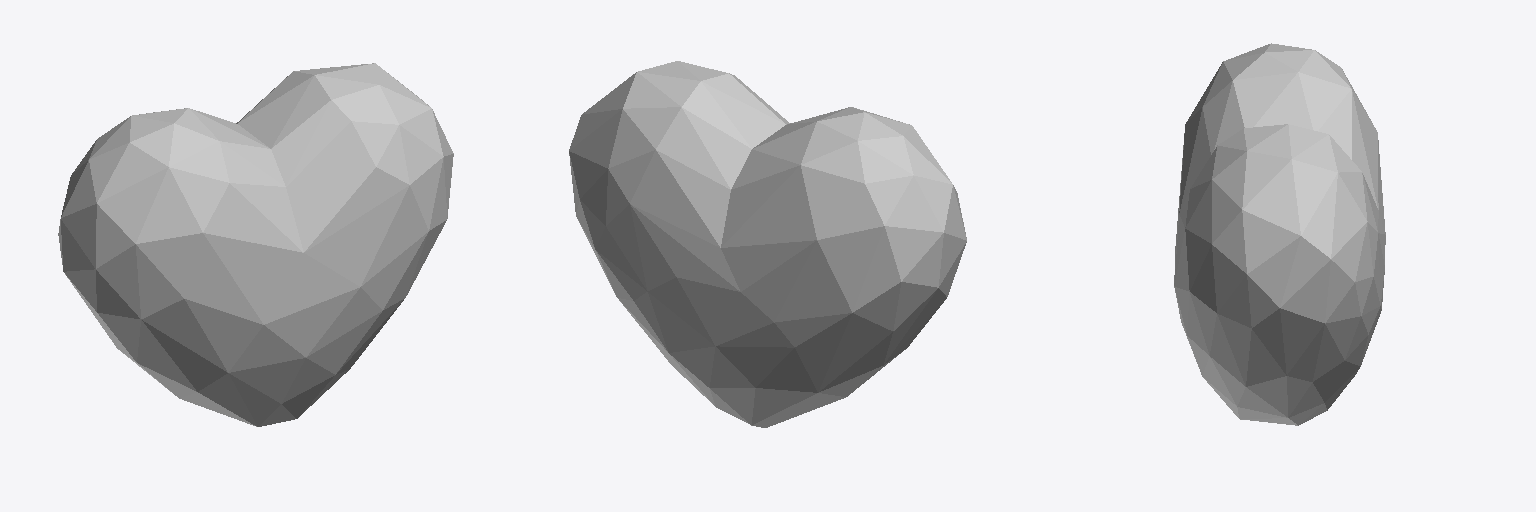
The model's file is _newheart.obj.
The picture shows the model from 3 angles: view 1: azimuth 30°, elevation 25°; view 2: azimuth 150°, elevation 25°; view 3: azimuth 270°, elevation 25°; orthographic projection.
Parts seen in each view (by area): view 1: Love.002; view 2: Love.002; view 3: Love.002.
Part boxes in pixels (x1,y1,x2,y2): Love.002: (58,63,453,426); Love.002: (569,61,966,427); Love.002: (1174,43,1385,425).
Size of the model in its own units: 1.61 by 1.35 by 0.794.